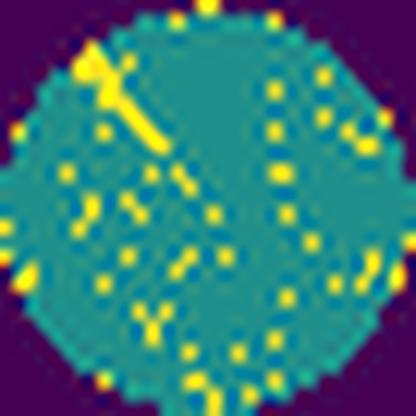Scratch: (68, 36, 174, 160)
